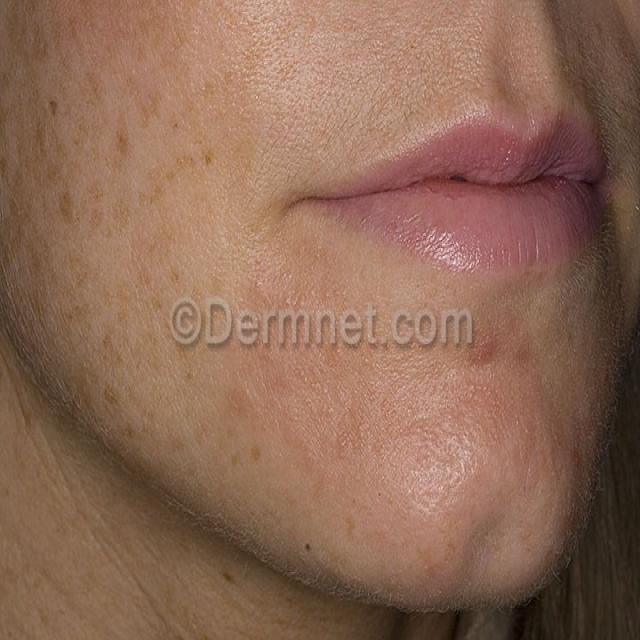Oily-Skin: (382, 385, 514, 544), (223, 0, 354, 129)
